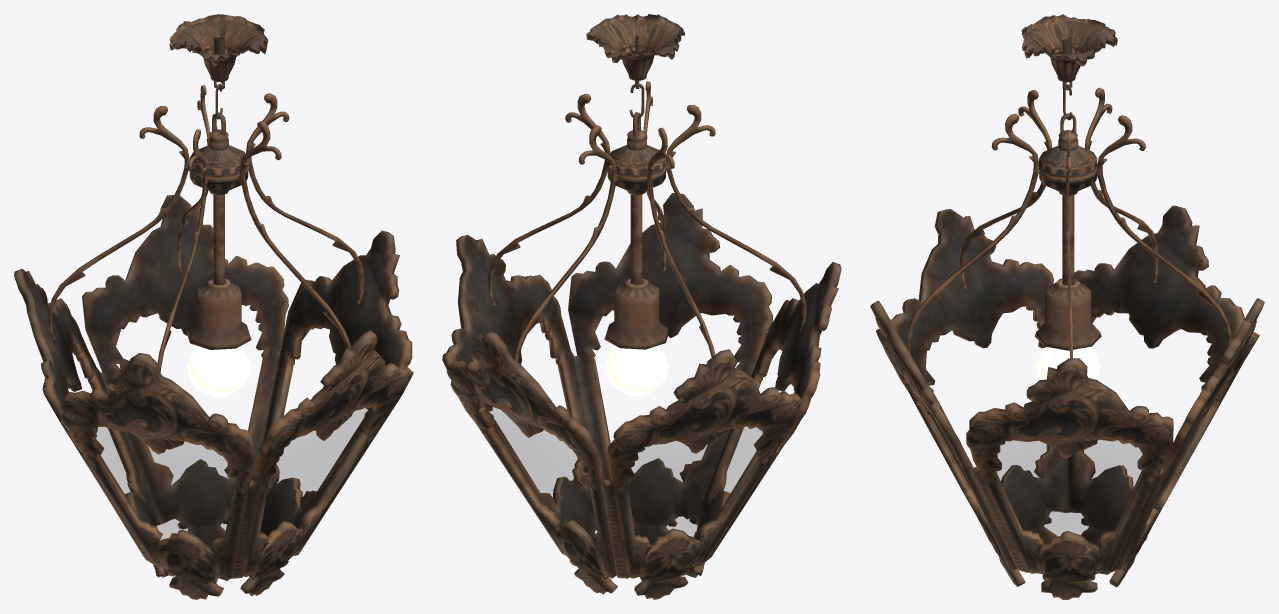
File: lantern_chandelier_01.glb
The picture shows the model from 3 angles, left to right: view 1: azimuth 30°, elevation 25°; view 2: azimuth 150°, elevation 25°; view 3: azimuth 270°, elevation 25°; orthographic projection.
Size of the model in its own units: 0.5792 by 0.8776 by 0.5746.
3 materials, 2 textured.
